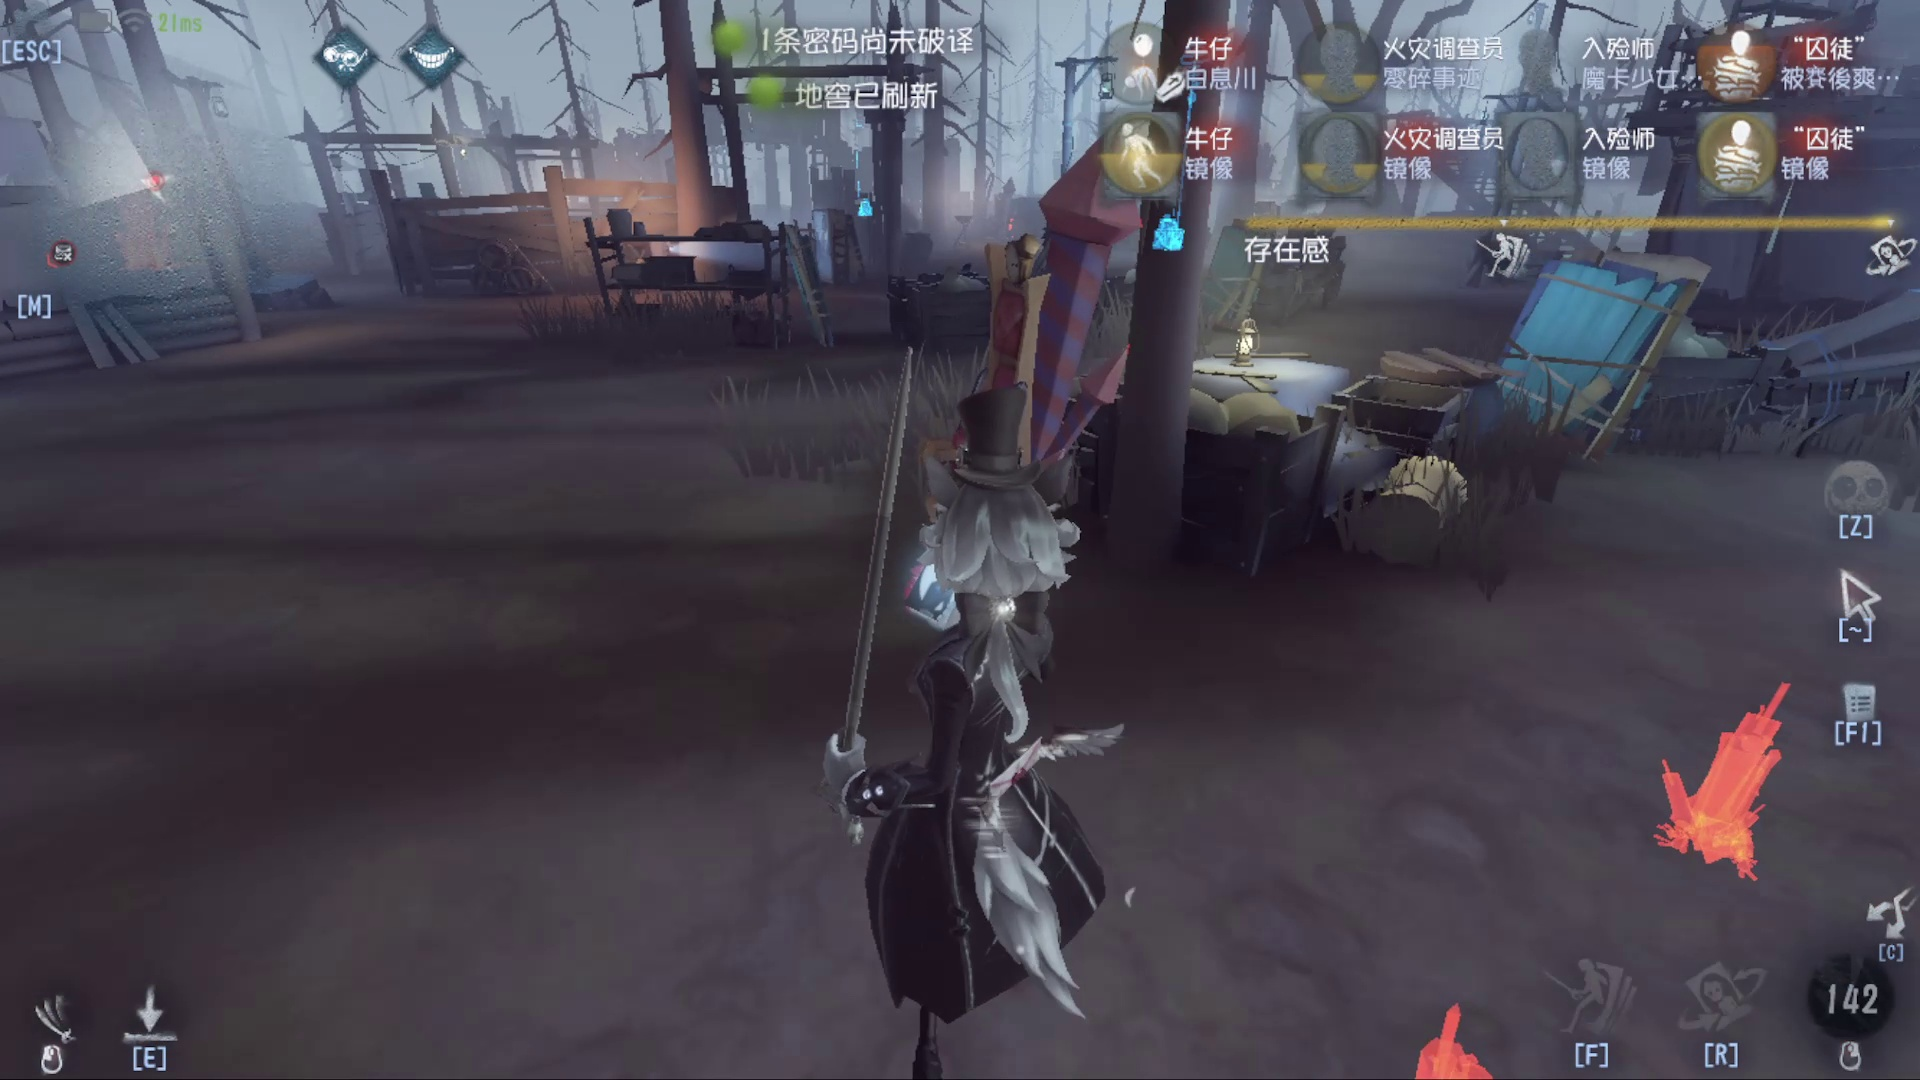密码机: (829, 107, 895, 233)
木板: (1469, 237, 1675, 467), (1189, 208, 1287, 343), (777, 219, 873, 351)
狂欢之椅: (909, 135, 1145, 620)
